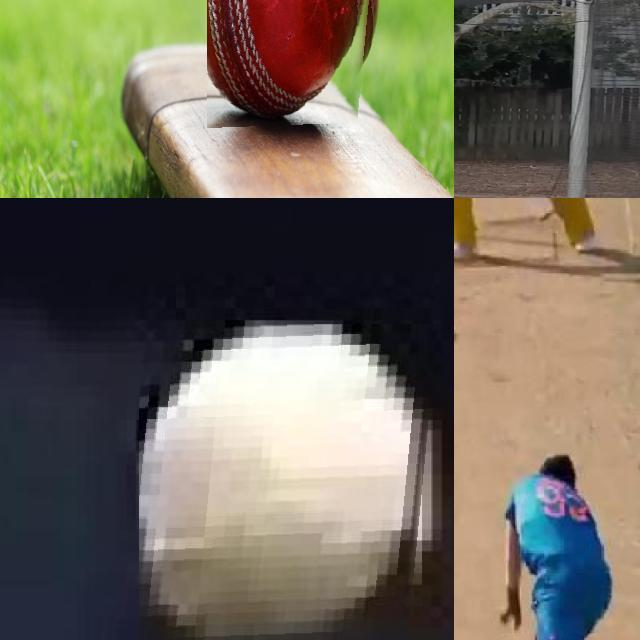Cricket ball: (139, 323, 439, 640), (207, 0, 382, 128), (454, 325, 462, 344)
